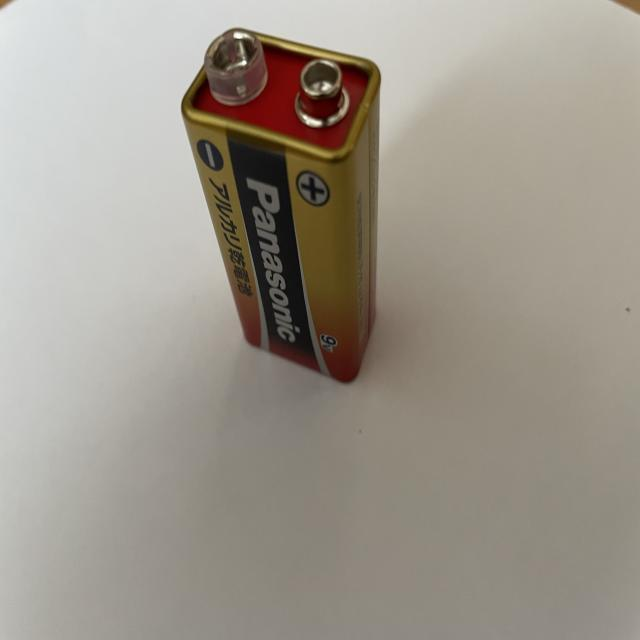9V: (181, 27, 381, 384)
